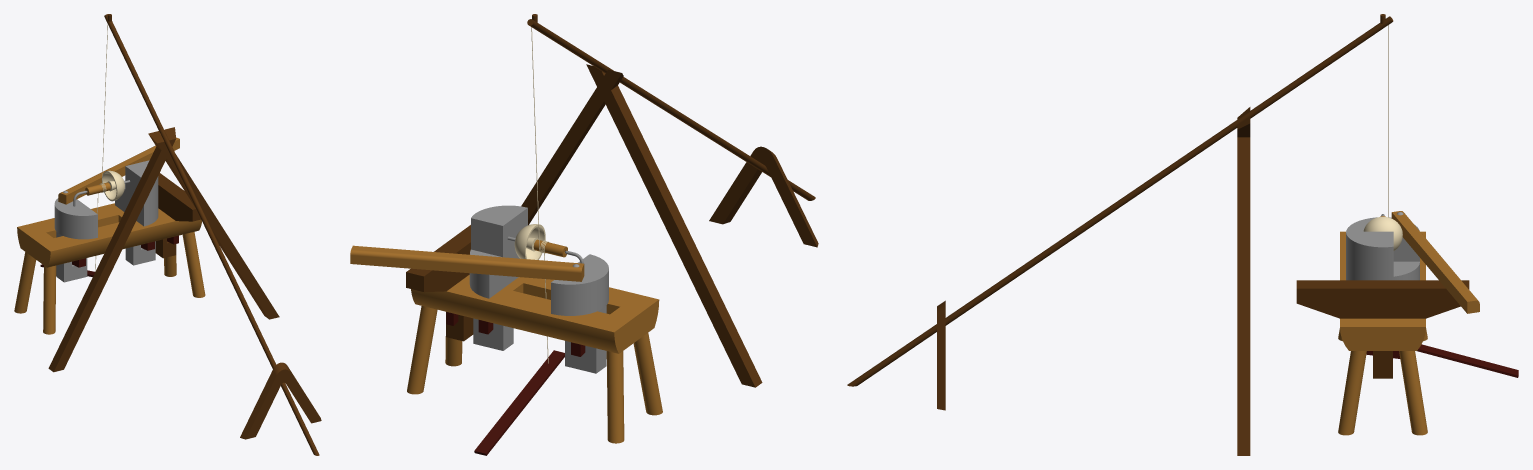
Rendered from Torno GLB.glb.
3 views of the same model, side by side, from view 1: azimuth 30°, elevation 25°; view 2: azimuth 150°, elevation 25°; view 3: azimuth 270°, elevation 25° (orthographic). The views are drawn at different scales.
Parts seen in each view (by area): view 1: Cortar-Extruir1, Cortar-Extruir2, Saliente-Extruir3, Obj_Cortar-Extruir3, Obj_Redondeo1, Cortar-Extruir3, Obj_Cortar-Extruir2, Redondeo1, Saliente-Extruir2, Saliente-Extruir2_2, Saliente-Extruir2_1, Cortar-Revolución4; view 2: Cortar-Extruir1, Cortar-Extruir2, Redondeo1, Cortar-Extruir3, Obj_Cortar-Extruir3, Obj_Redondeo1, Obj_Cortar-Extruir2, Saliente-Extruir3, Obj_Saliente-Extruir1_1.001, Saliente-Extruir2_1, Saliente-Extruir2_3, Saliente-Extruir2 (+2 smaller); view 3: Obj_Cortar-Extruir2, Cortar-Extruir1, Saliente-Extruir3, Cortar-Extruir2, Cortar-Extruir3, Redondeo1, Saliente-Extruir2_3, Saliente-Extruir2_2, Obj_Redondeo1, Obj_Saliente-Extruir1_1.001.
Boxes of the visible parts, x1,y1,x2,y2 form: Cortar-Extruir1: (48,127,279,372); Cortar-Extruir2: (17,203,201,267); Saliente-Extruir3: (104,14,319,455); Obj_Cortar-Extruir3: (54,190,97,282); Obj_Redondeo1: (240,362,321,439); Cortar-Extruir3: (115,160,158,265); Obj_Cortar-Extruir2: (155,173,200,258); Redondeo1: (58,137,179,204); Saliente-Extruir2: (43,241,56,334); Saliente-Extruir2_2: (182,232,205,297); Saliente-Extruir2_1: (14,230,39,313); Cortar-Revolución4: (101,170,124,201); Cortar-Extruir1: (521,64,762,387); Cortar-Extruir2: (411,275,659,353); Redondeo1: (350,245,584,281); Cortar-Extruir3: (469,205,527,350); Obj_Cortar-Extruir3: (551,250,608,373); Obj_Redondeo1: (709,146,818,247); Obj_Cortar-Extruir2: (406,225,473,341); Saliente-Extruir3: (527,14,815,200); Obj_Saliente-Extruir1_1.001: (474,350,564,455); Saliente-Extruir2_1: (606,318,624,443); Saliente-Extruir2_3: (407,306,437,394); Saliente-Extruir2: (629,303,662,415); Obj_Cortar-Extruir2: (1296,280,1469,378); Cortar-Extruir1: (1237,107,1250,455); Saliente-Extruir3: (847,14,1393,386); Cortar-Extruir2: (1340,231,1425,350); Cortar-Extruir3: (1346,231,1419,280); Redondeo1: (1391,211,1479,313); Saliente-Extruir2_3: (1397,319,1427,435); Saliente-Extruir2_2: (1338,319,1368,435); Obj_Redondeo1: (937,300,945,410); Obj_Saliente-Extruir1_1.001: (1417,344,1518,377).
Size of the model in its own units: 7.59 by 9.24 by 15.2.
